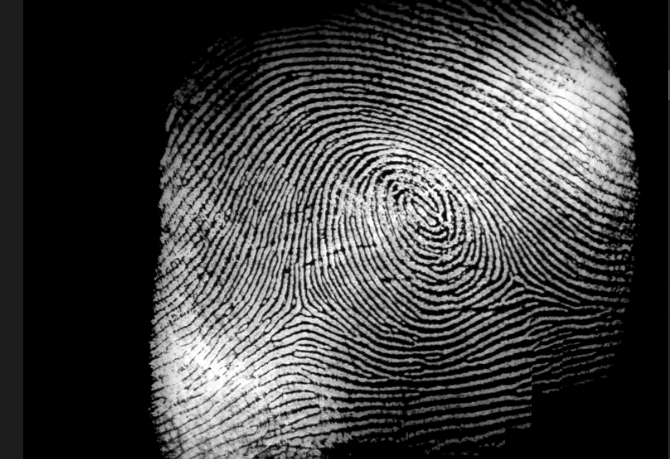deltas: (487, 259, 548, 313), (272, 284, 324, 336)
nucleo: (400, 174, 455, 239)
